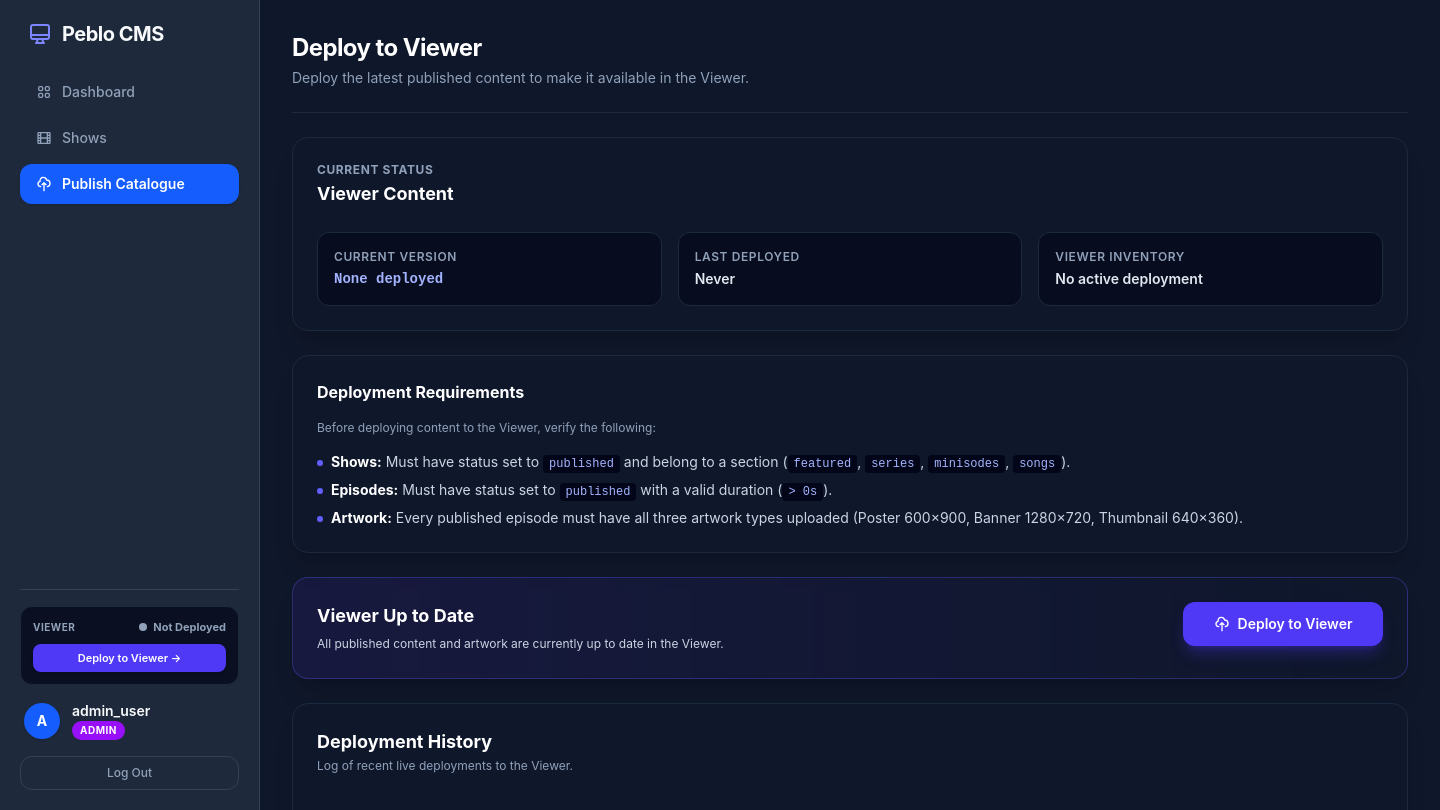
Scenario: CMS Catalogue Publishing › displays human-readable validation errors on 422 failure
Click the button with test id "publish-catalog-btn". click: [1283, 624]
box: [1183,602,1383,646]
(page scrolled)
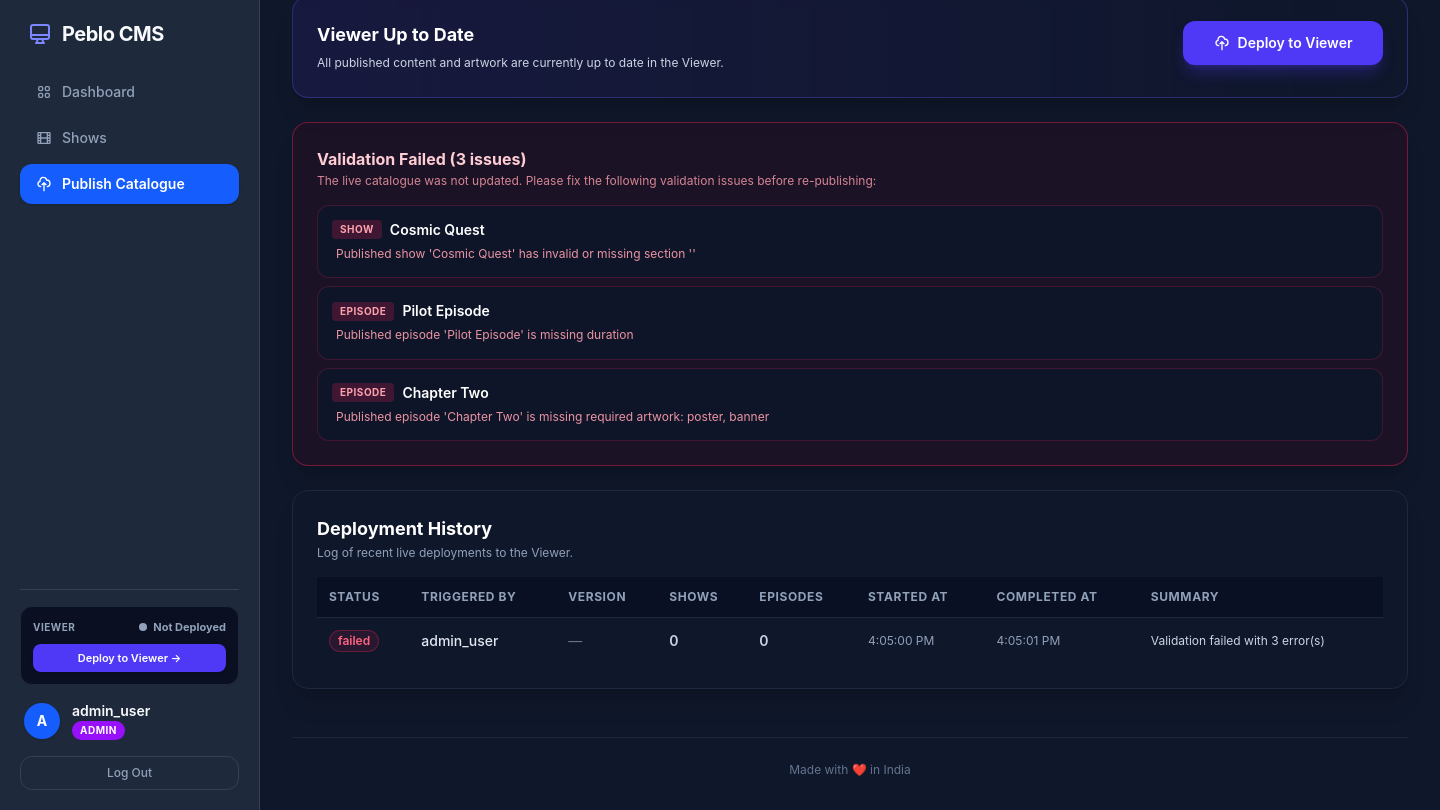
Expected: the message with test id "publish-validation-report" is shown, [292,122,1408,466]
Expected: the heading "Validation Failed (3 issues)" is shown, [317,148,526,168]
Expected: the element with test id "validation-error-0" shows "Published show 'Cosmic Quest' has invalid or missing section ''", [336,246,696,260]
